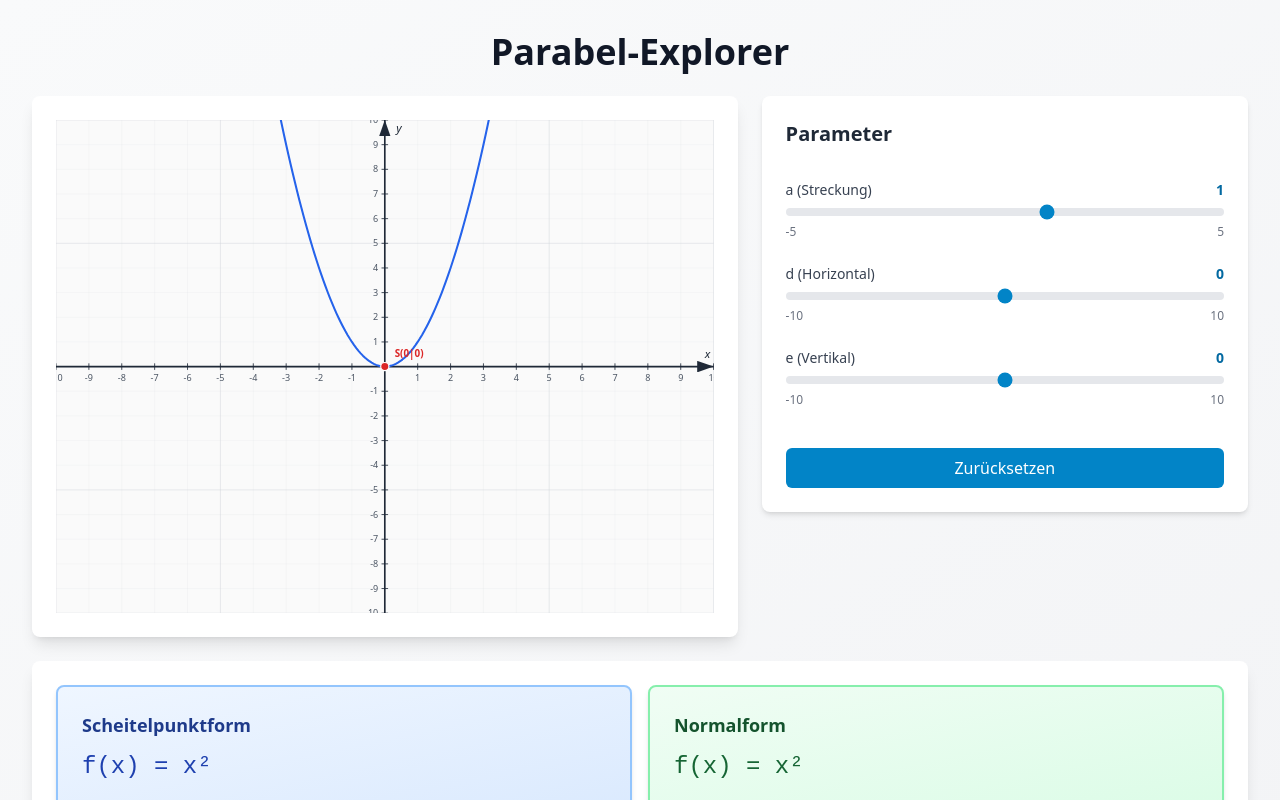
Test: ExplorerPage › resets parameters when reset button is clicked
Change parameter 'a' first
Set the slider named "a (Streckung) parameter" to "2" at (1089, 212), box [786,208,1224,216]
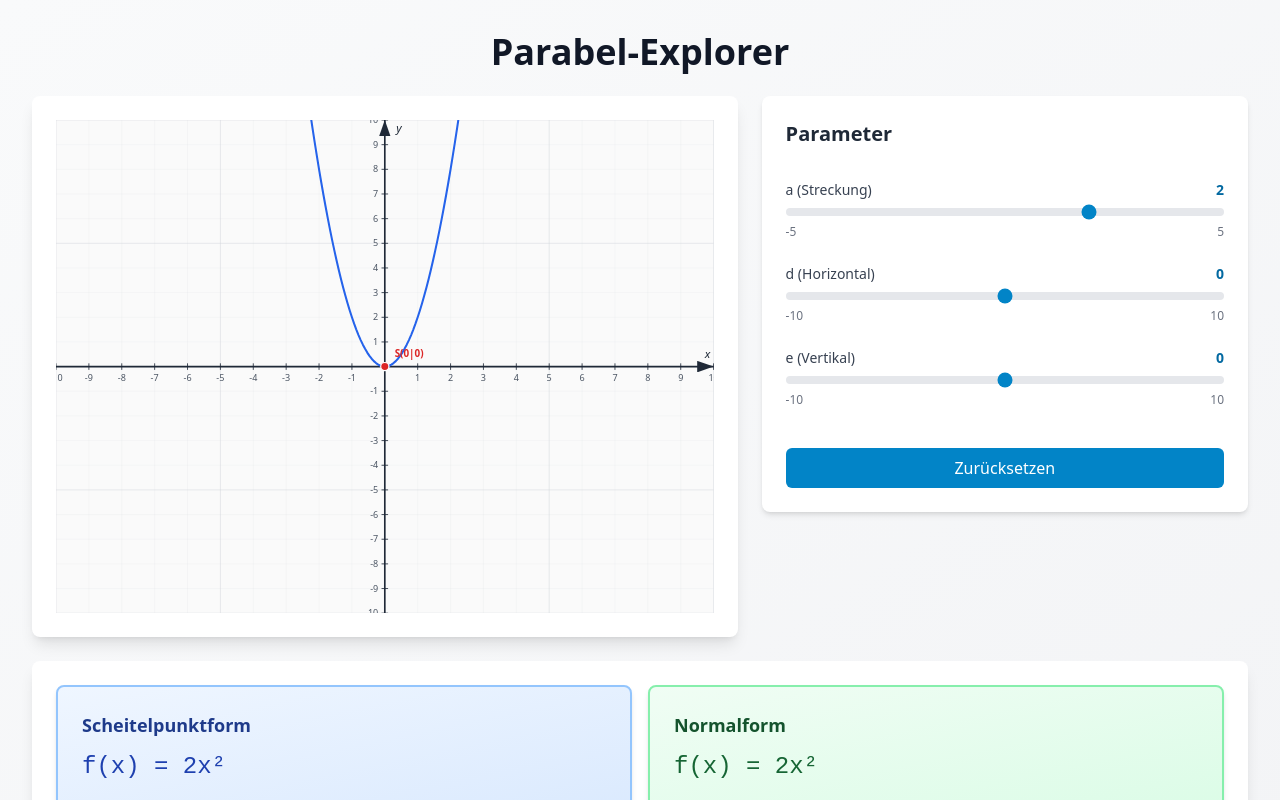
Now the text with test id "vertex-form-text" shows "2x²", box [82,753,226,780]
Click reset button
Click the button with test id "reset-button".
click(1005, 468)  # box [786,448,1224,488]
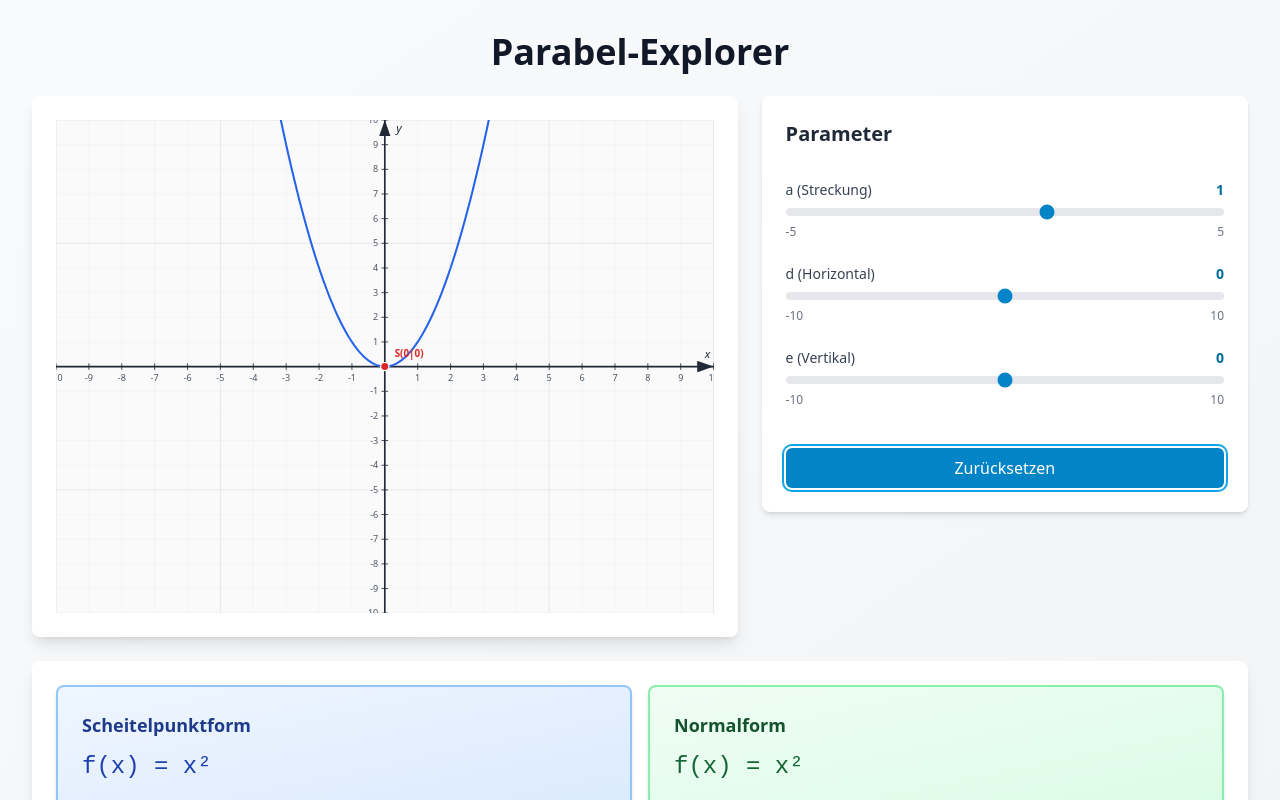
Now the text with test id "vertex-form-text" reads "f(x) = x²", box [82,753,212,780]
